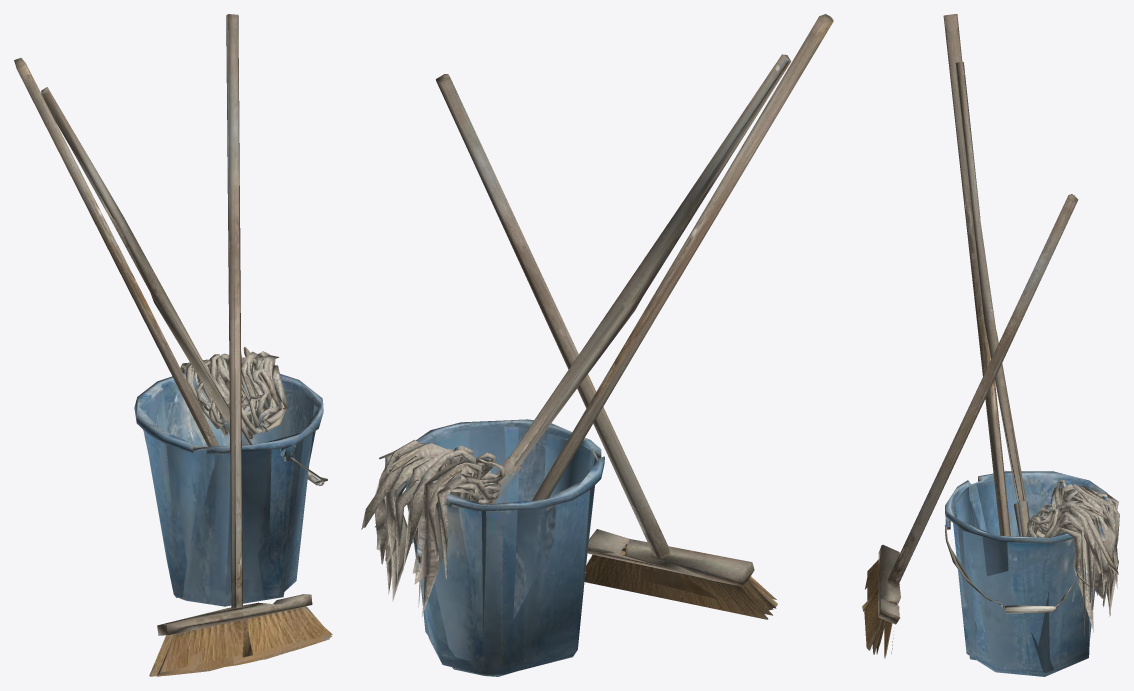
3 renders of one model, left to right at view 1: azimuth 30°, elevation 25°; view 2: azimuth 150°, elevation 25°; view 3: azimuth 270°, elevation 25°, orthographic. The views are drawn at different scales.
Size of the model in its own units: 0.5537 by 0.9512 by 0.4155.
1 material, 1 textured.
